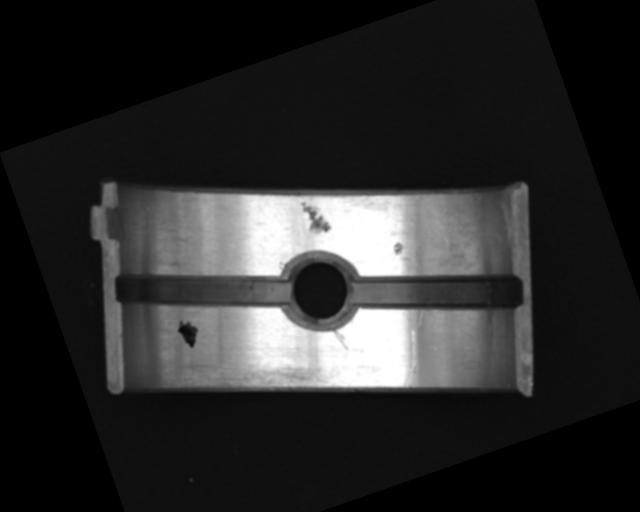blot: (174, 314, 203, 351)
bruise: (299, 194, 334, 238), (391, 239, 407, 257)
gap: (111, 225, 294, 357), (350, 231, 526, 354)
hole: (270, 242, 370, 344)
nick: (387, 328, 434, 390), (331, 324, 350, 353)
scratch: (169, 334, 319, 431)
